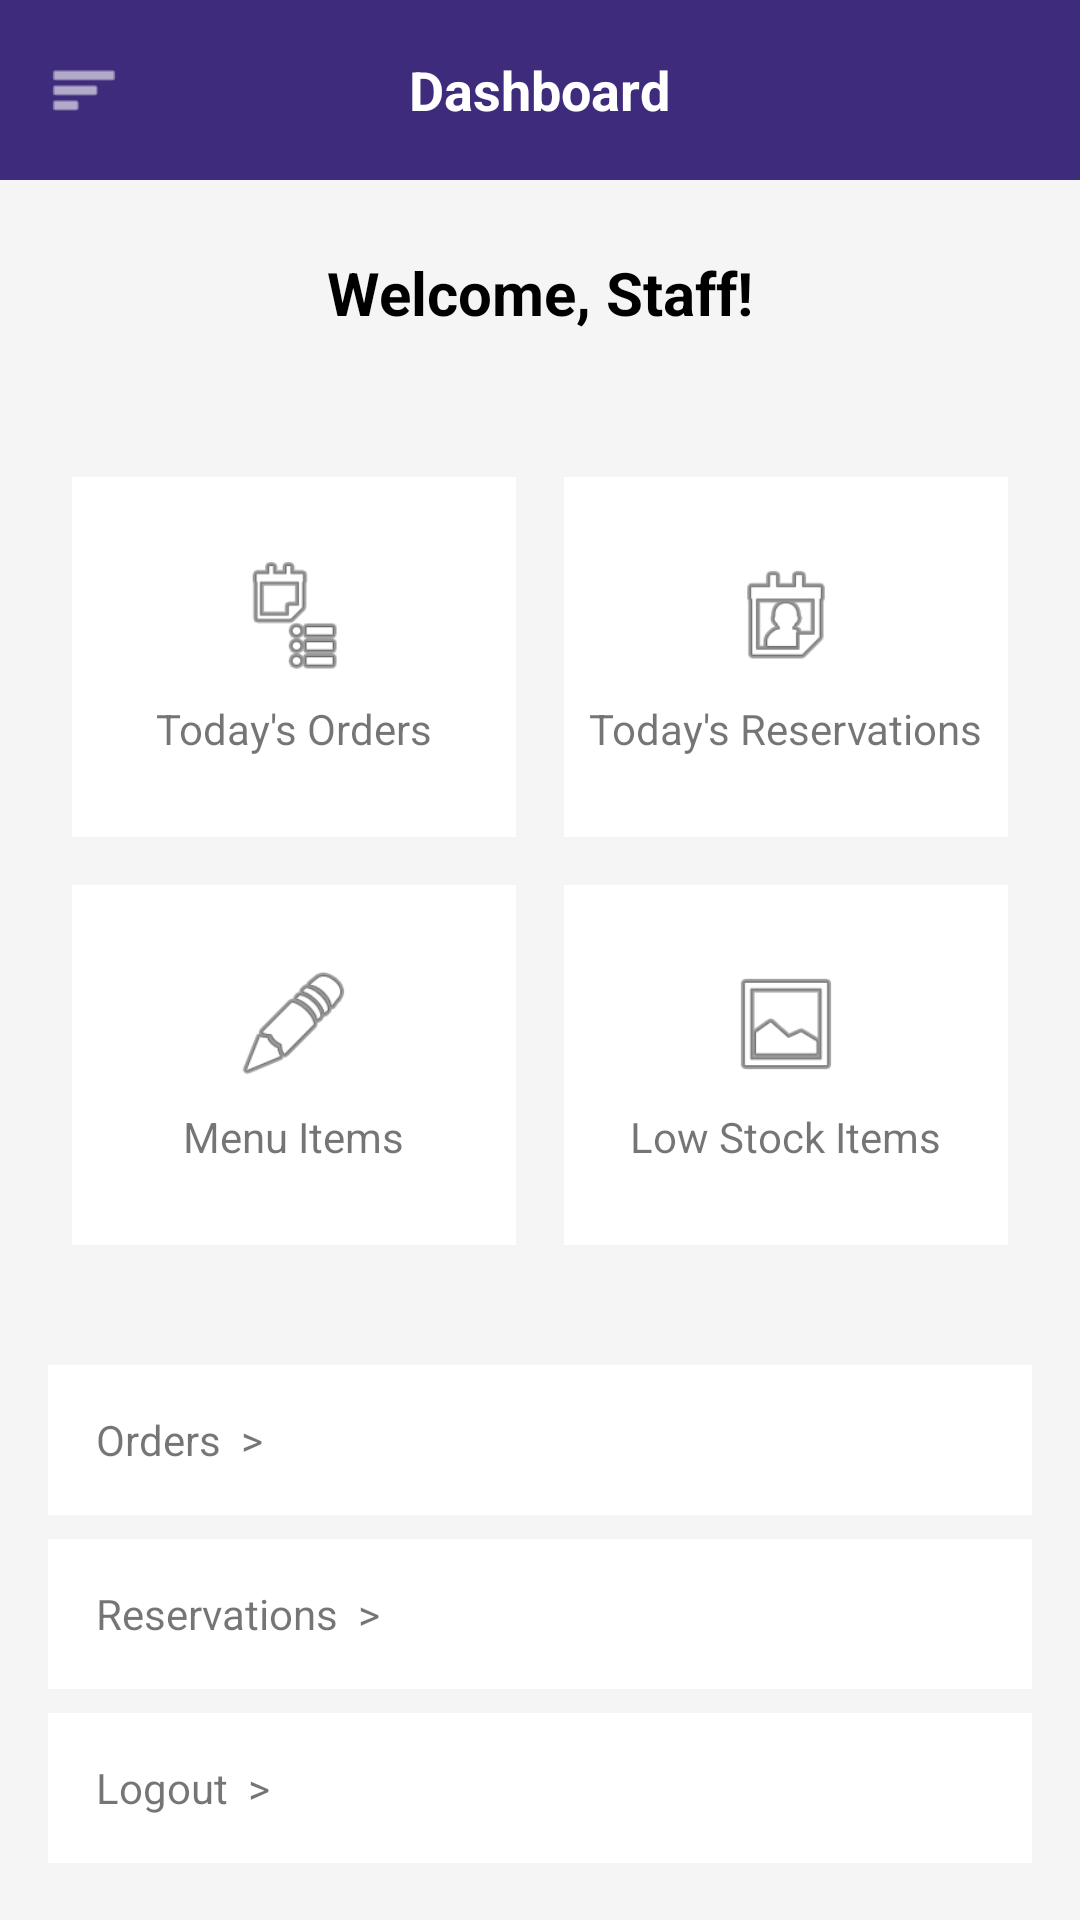

Named icons in this screenshot (1080 × 1920) and their bounding boxes, (x1, y1, x2, y2):
agenda: (252, 562, 337, 669)
edit: (243, 972, 344, 1074)
gallery: (741, 979, 831, 1069)
sort by size: (53, 70, 115, 111)
